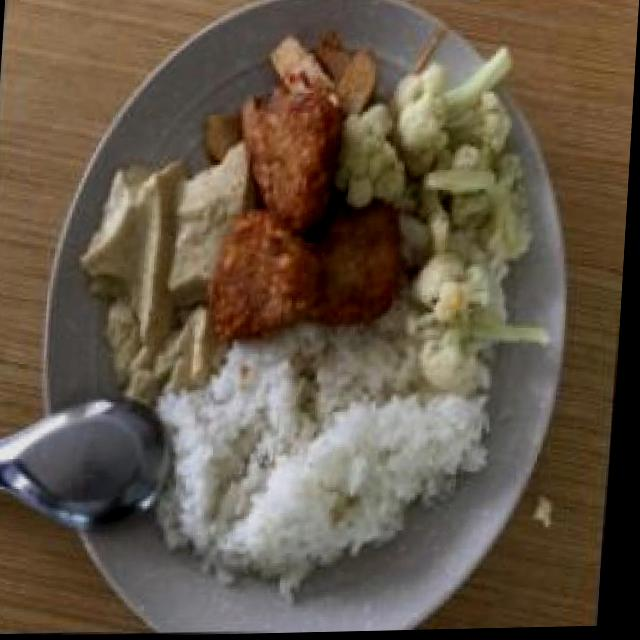rice: (181, 329, 475, 579)
triangle_hash_brown: (209, 88, 419, 334)
